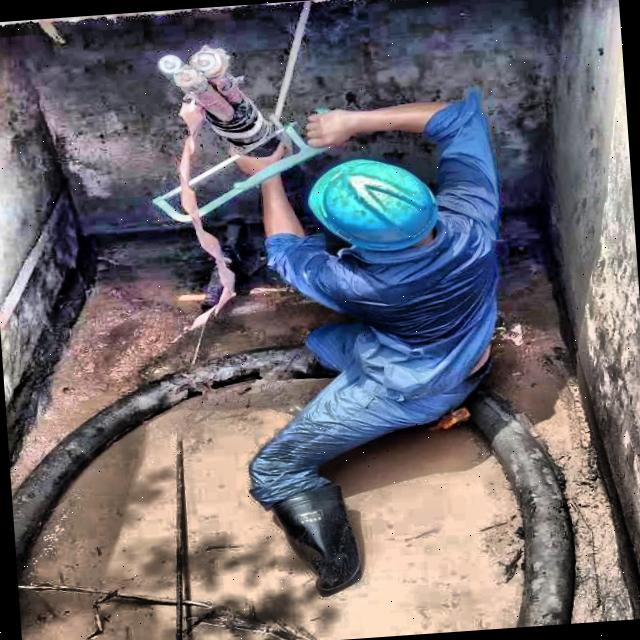helmet: (298, 146, 449, 261)
